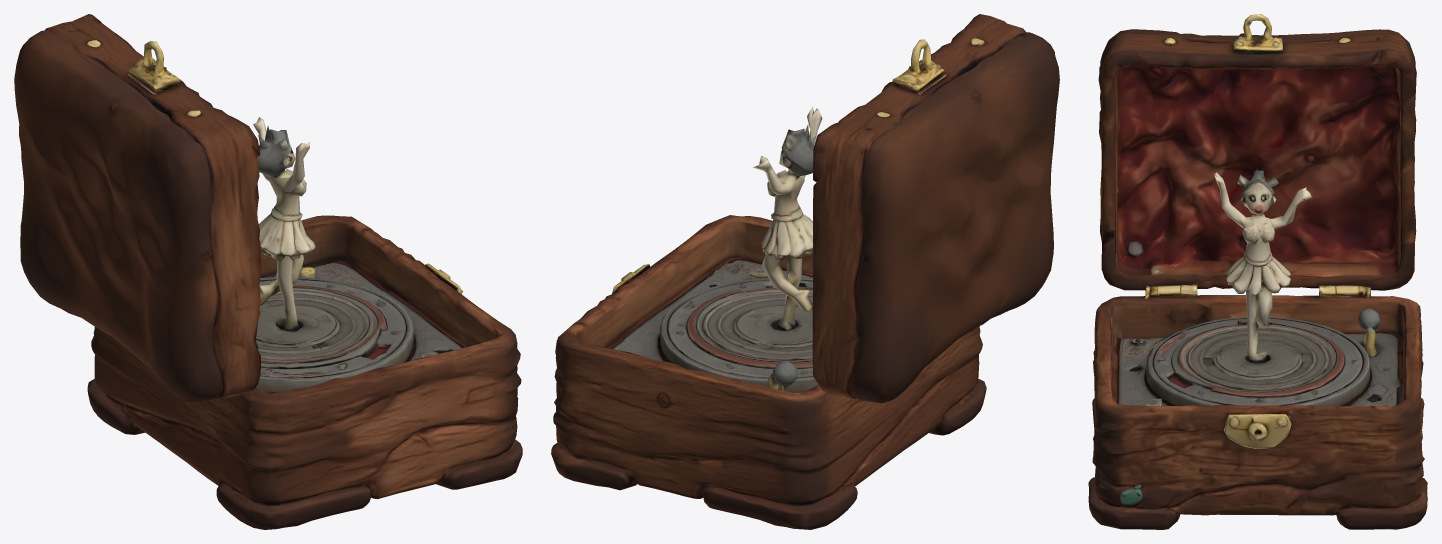
The picture shows the model from 3 angles, left to right: view 1: azimuth 30°, elevation 25°; view 2: azimuth 150°, elevation 25°; view 3: azimuth 270°, elevation 25°; orthographic projection. The views are drawn at different scales.
Visible parts, largest first — view 1: tripo_node_8c12e756-5f2e-4ac9-8831-fde634a0728f; view 2: tripo_node_8c12e756-5f2e-4ac9-8831-fde634a0728f; view 3: tripo_node_8c12e756-5f2e-4ac9-8831-fde634a0728f.
Part boxes in pixels (x1=…): tripo_node_8c12e756-5f2e-4ac9-8831-fde634a0728f: x1=14, y1=14, x2=522, y2=529; tripo_node_8c12e756-5f2e-4ac9-8831-fde634a0728f: x1=551, y1=14, x2=1059, y2=529; tripo_node_8c12e756-5f2e-4ac9-8831-fde634a0728f: x1=1088, y1=14, x2=1427, y2=529.
Size of the model in its own units: 0.8692 by 1 by 0.7863.
Materials: 1 (1 with a texture image).
